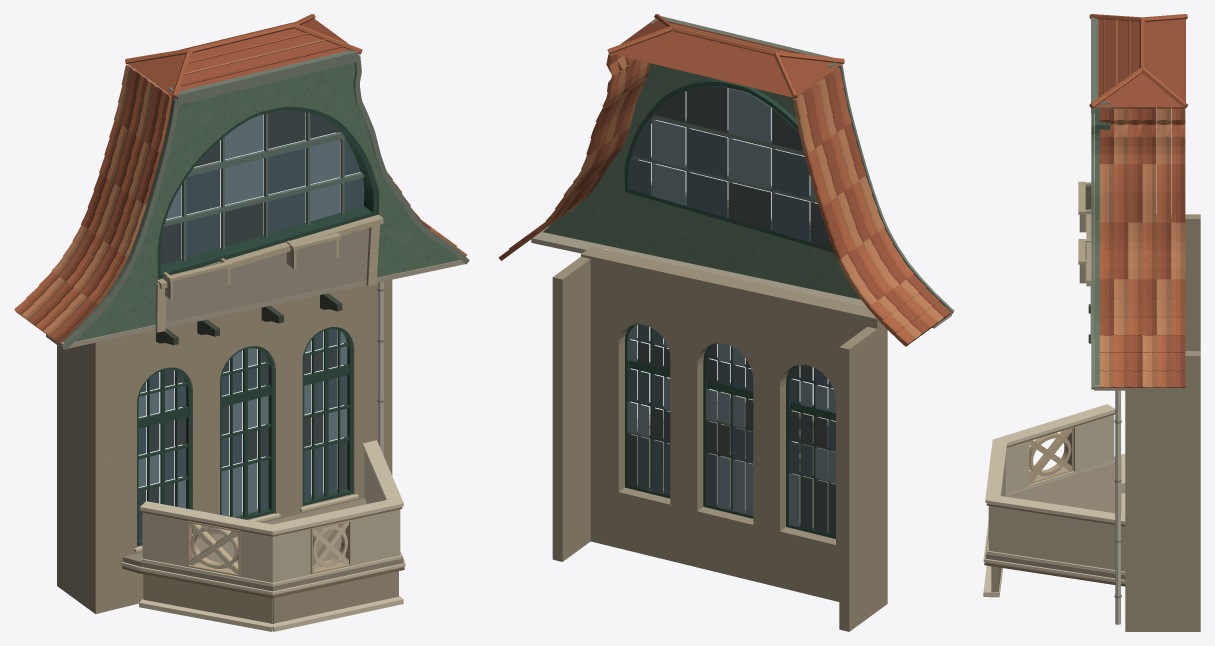
File: changning-lixi-lane-24-dai-villa-gable-lod.glb
The picture shows the model from 3 angles, left to right: view 1: azimuth 30°, elevation 25°; view 2: azimuth 150°, elevation 25°; view 3: azimuth 270°, elevation 25°; orthographic projection. The views are drawn at different scales.
Parts seen in each view (by area): view 1: 戴宅的绿色曲边山墙、三联拱窗与折角阳台; view 2: 戴宅的绿色曲边山墙、三联拱窗与折角阳台; view 3: 戴宅的绿色曲边山墙、三联拱窗与折角阳台.
Part boxes in pixels (x1,y1,x2,y2): 戴宅的绿色曲边山墙、三联拱窗与折角阳台: (14, 14, 469, 631); 戴宅的绿色曲边山墙、三联拱窗与折角阳台: (498, 14, 954, 631); 戴宅的绿色曲边山墙、三联拱窗与折角阳台: (983, 14, 1200, 631).
Bounding box in the file's own units: 7.32 × 9.11 × 3.44.
26 materials, 1 textured.
